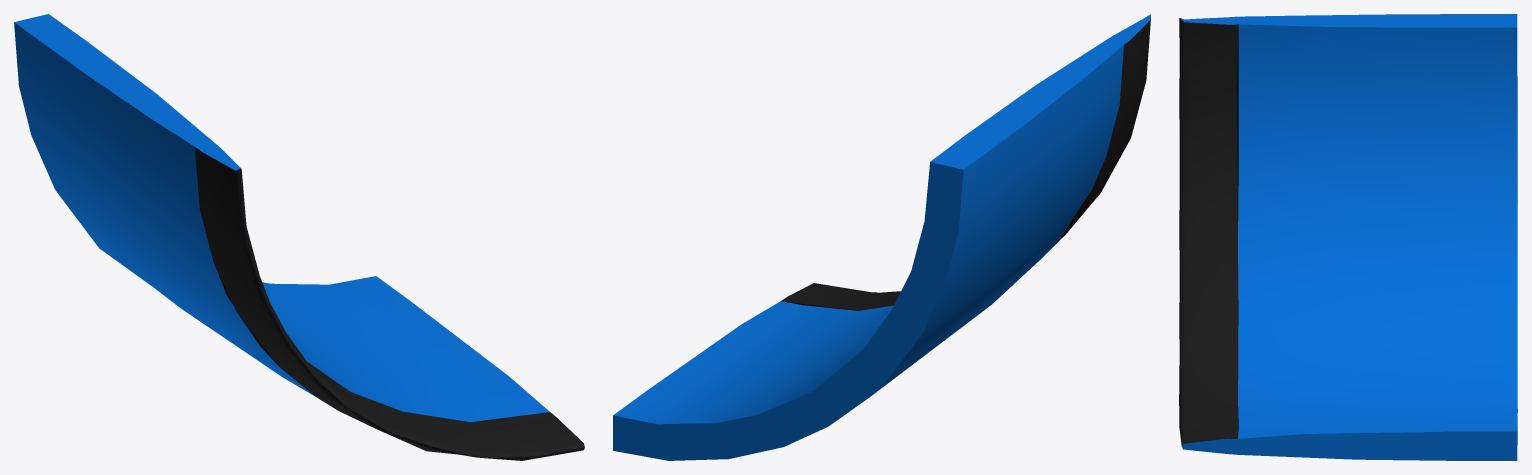
The model's file is Display_EdgeCurve_B.glb.
3 views of the same model, side by side, from view 1: azimuth 30°, elevation 25°; view 2: azimuth 150°, elevation 25°; view 3: azimuth 270°, elevation 25° (orthographic). The views are drawn at different scales.
Parts seen in each view (by area): view 1: Display_EdgeCurve_B; view 2: Display_EdgeCurve_B; view 3: Display_EdgeCurve_B.
Part boxes in pixels (x1,y1,x2,y2): Display_EdgeCurve_B: (14,14,584,460); Display_EdgeCurve_B: (613,14,1150,460); Display_EdgeCurve_B: (1179,14,1517,460).
Bounding box in the file's own units: 0.9978 × 1 × 1.
